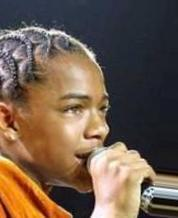face: (60, 89, 111, 162)
